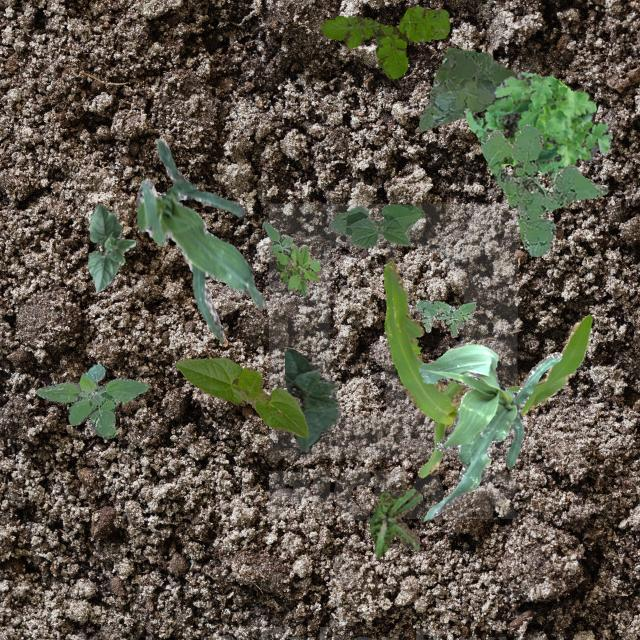crop: (382, 258, 590, 477), (134, 138, 264, 342), (418, 342, 560, 520), (175, 356, 308, 436), (284, 348, 339, 452), (86, 202, 134, 290), (328, 204, 422, 246)
weed: (479, 123, 606, 254), (462, 70, 612, 178), (317, 6, 448, 78), (36, 362, 148, 438), (418, 46, 516, 130), (368, 486, 422, 556), (274, 244, 322, 296), (414, 298, 476, 336), (262, 220, 290, 253)
